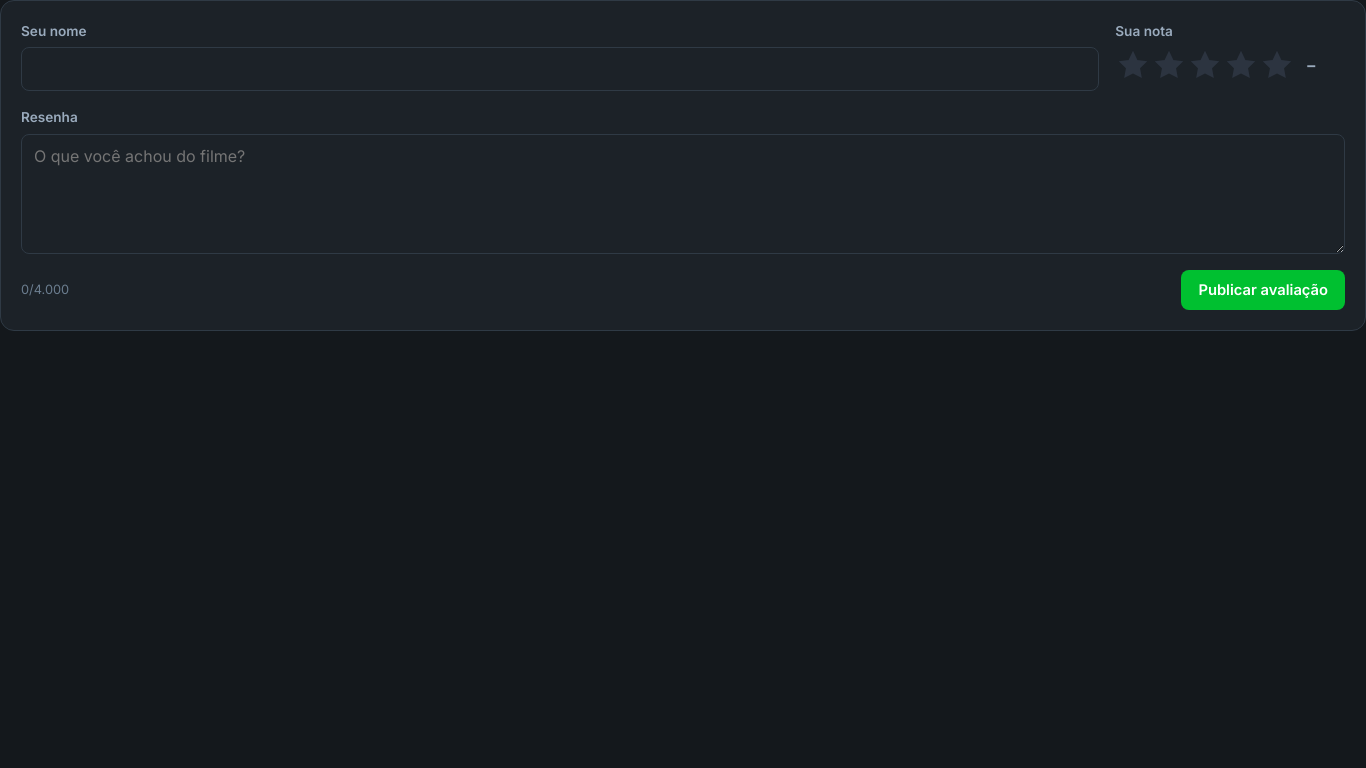
Test: ReviewForm › envia a nota em estrelas e limpa a resenha
Type "Ana" into the field labelled "Seu nome" at {"x": 560, "y": 69}, box [21,47,1099,91]
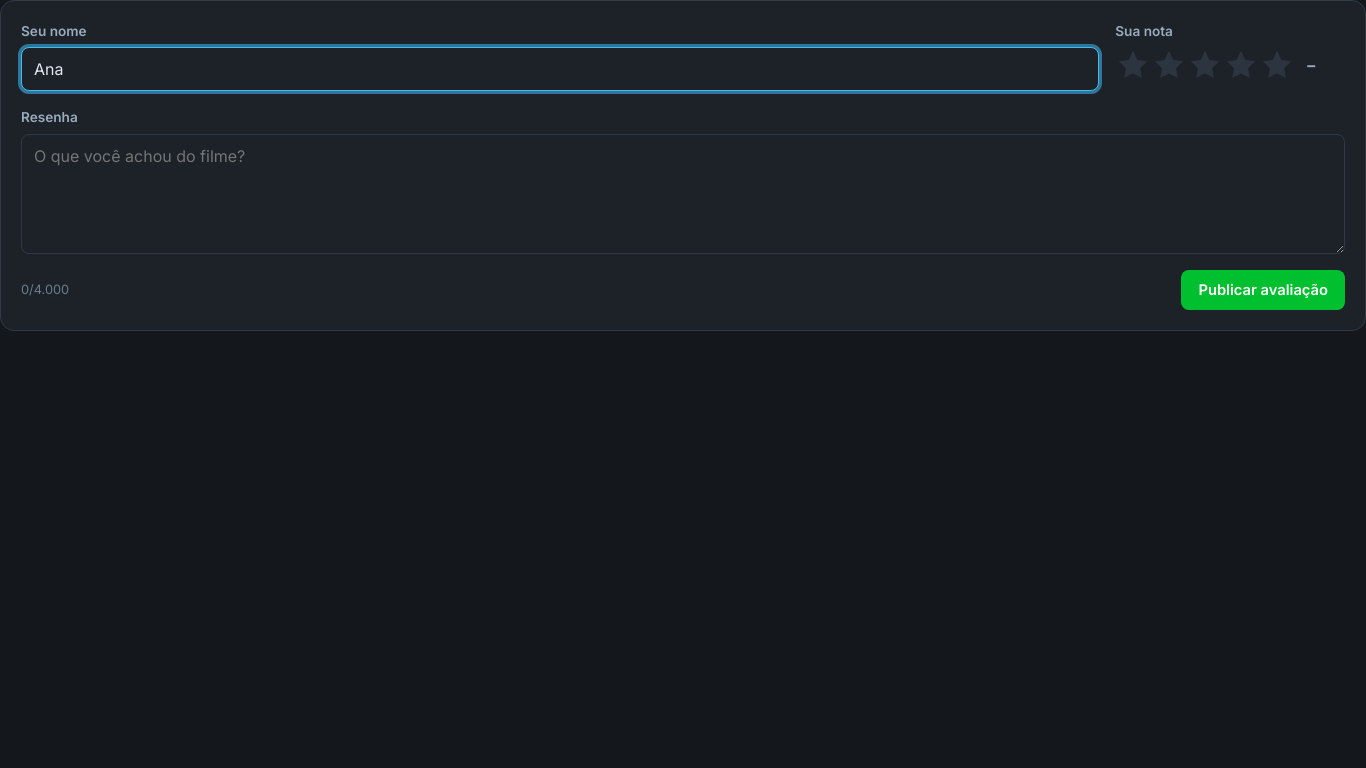
Click the slider at {"x": 1230, "y": 65}, box [1115,47,1345,83]
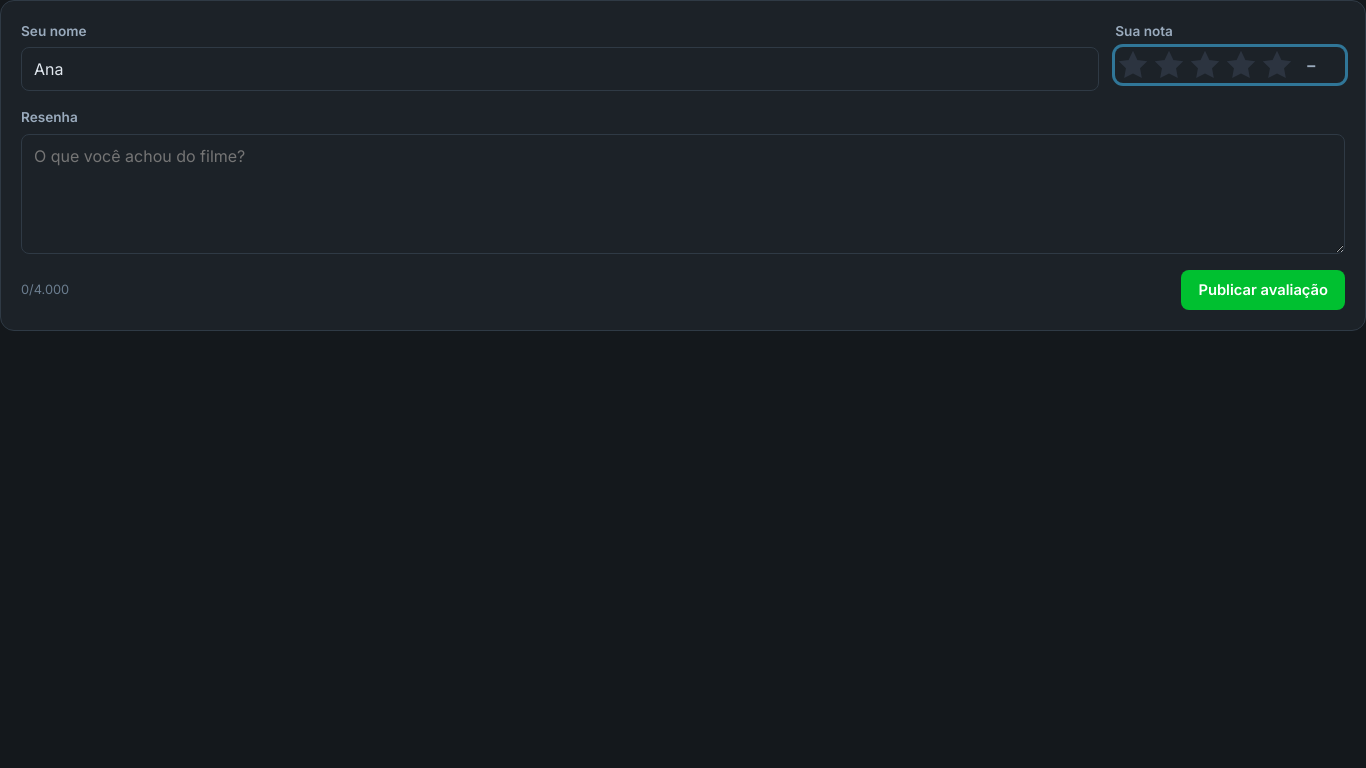
Type keys "4{ArrowRight}"
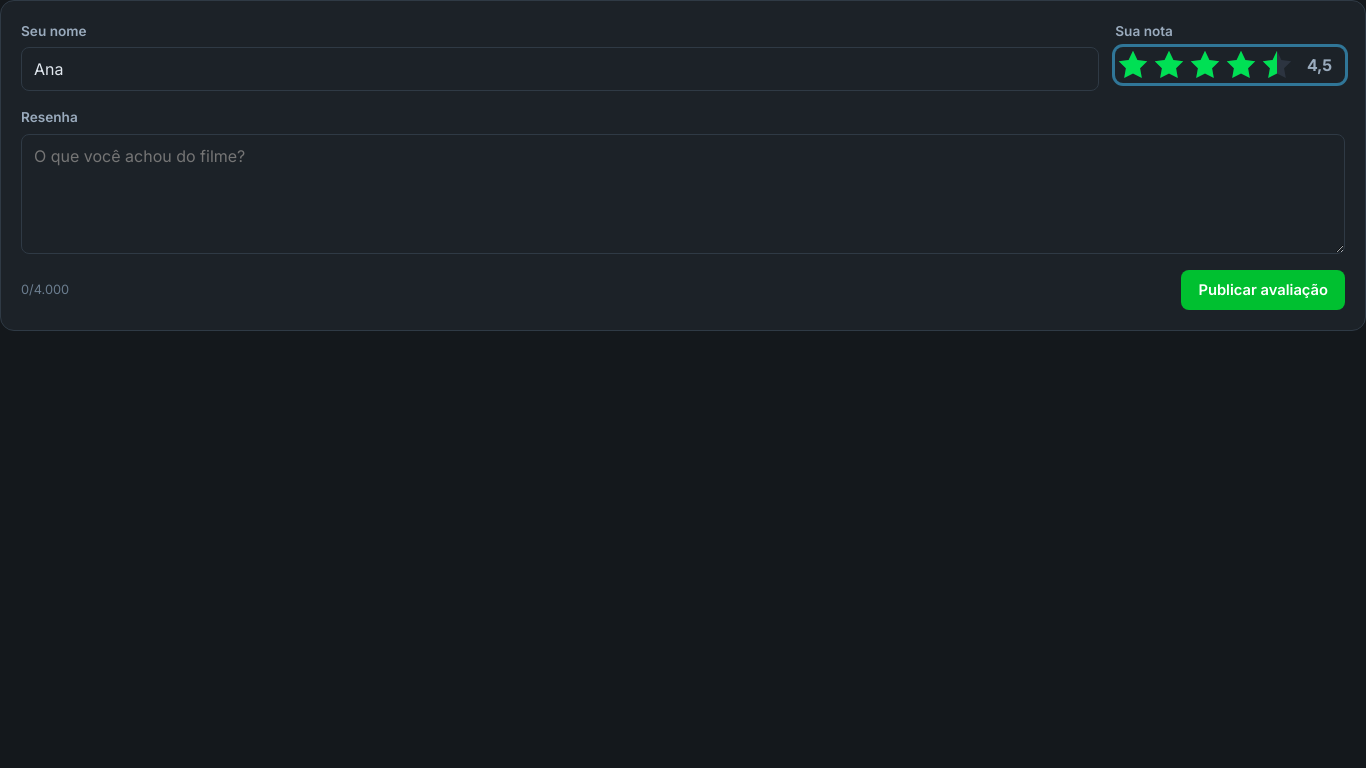
Type "  Ótimo  " into the text box labelled "Resenha" at {"x": 683, "y": 194}, box [21,134,1345,254]
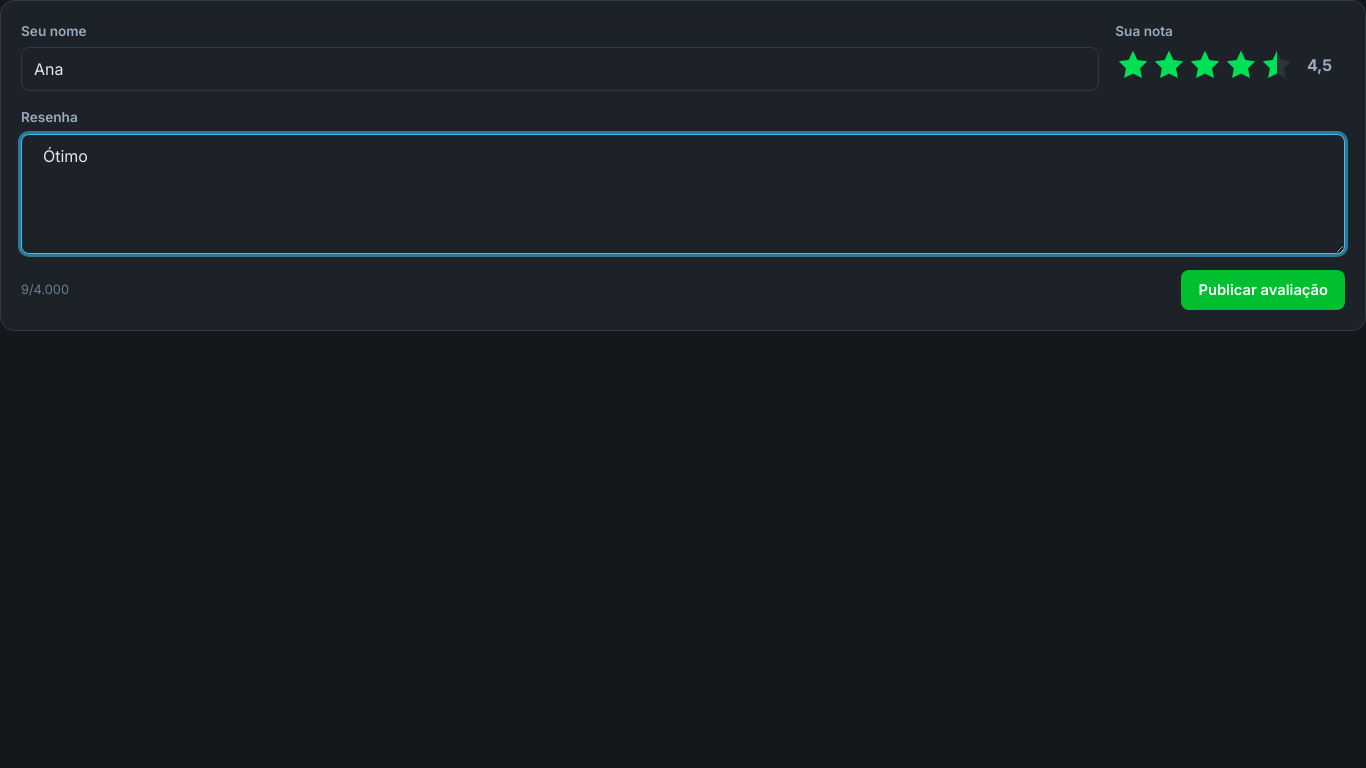
Click the button "Publicar avaliação" at {"x": 1263, "y": 290}, box [1181,270,1345,310]
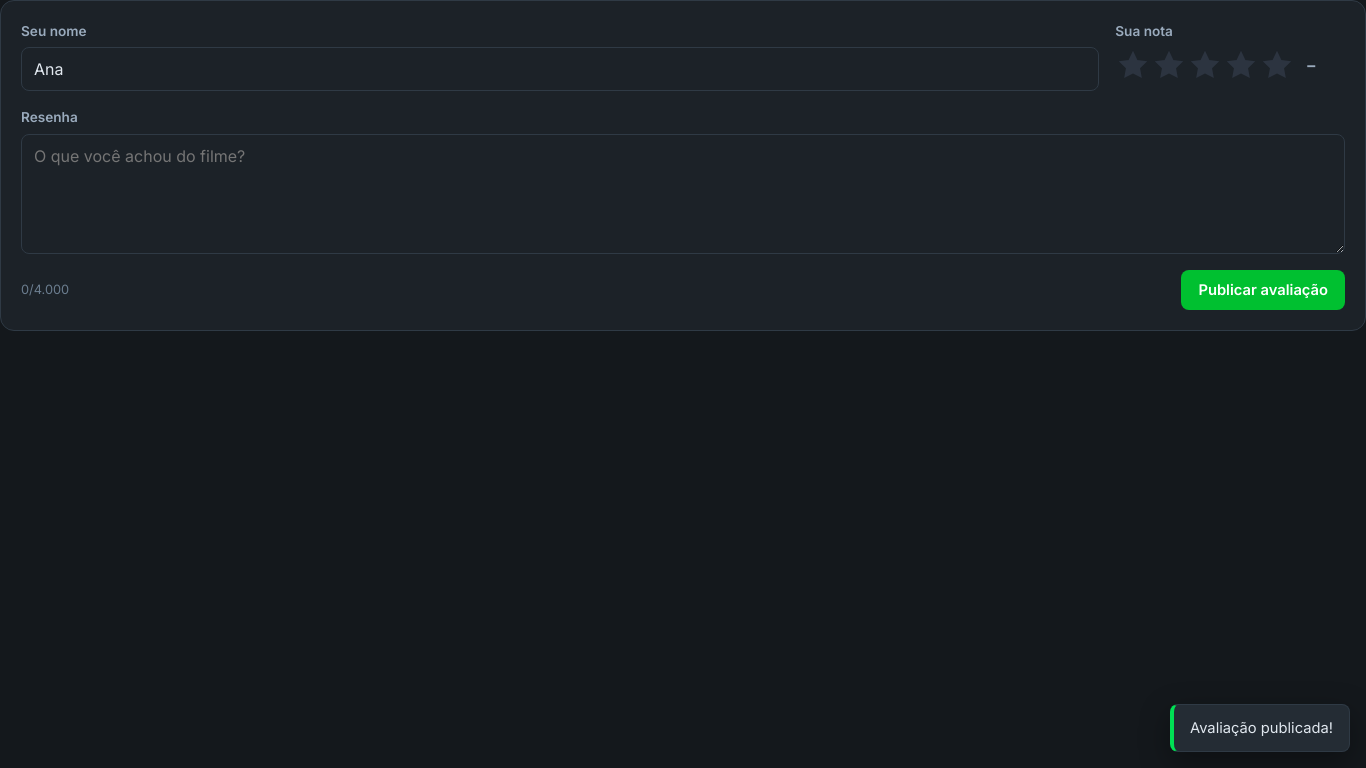
Result: the text box labelled "Resenha" is empty at [21,134,1345,254]
Result: the text "Avaliação publicada!" is shown at [1170,704,1350,752]
